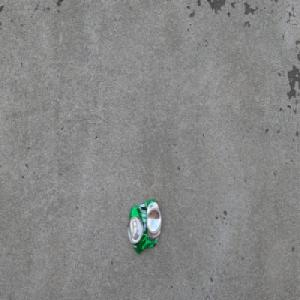SodaCan: (127, 198, 162, 255)
